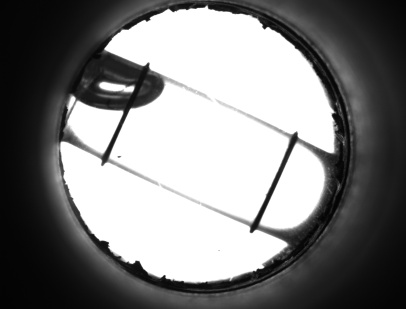line: (252, 152, 294, 215), (104, 121, 127, 148)
